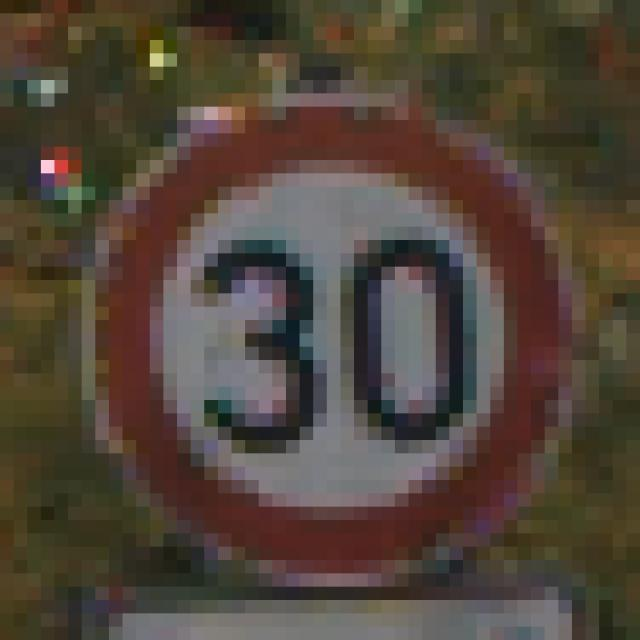Speed Limit -30-: (61, 59, 552, 554)
